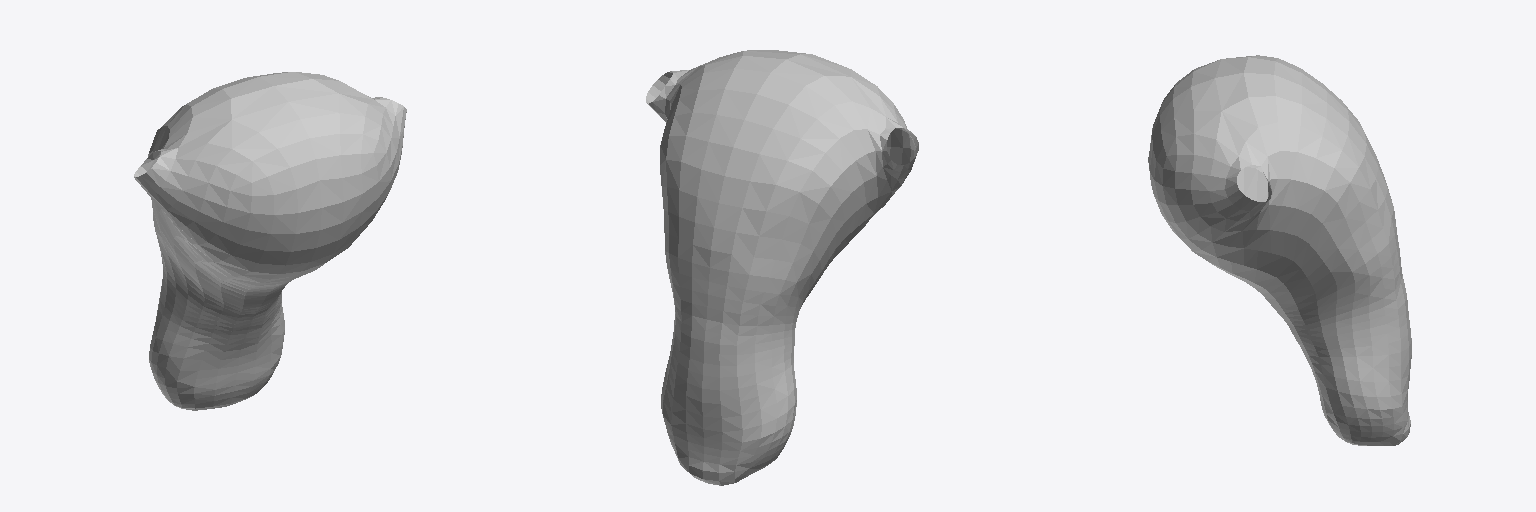
The model's file is LastVersionUteroblend_Tex.obj.
The picture shows the model from 3 angles: view 1: azimuth 30°, elevation 25°; view 2: azimuth 150°, elevation 25°; view 3: azimuth 270°, elevation 25°; orthographic projection.
Bounding box in the file's own units: 1.21 × 1.58 × 1.03.